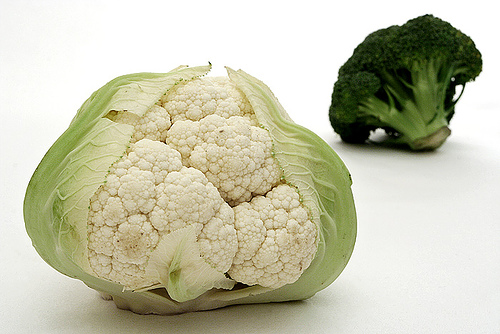cauliflower: (22, 58, 359, 317), (325, 10, 484, 164)
